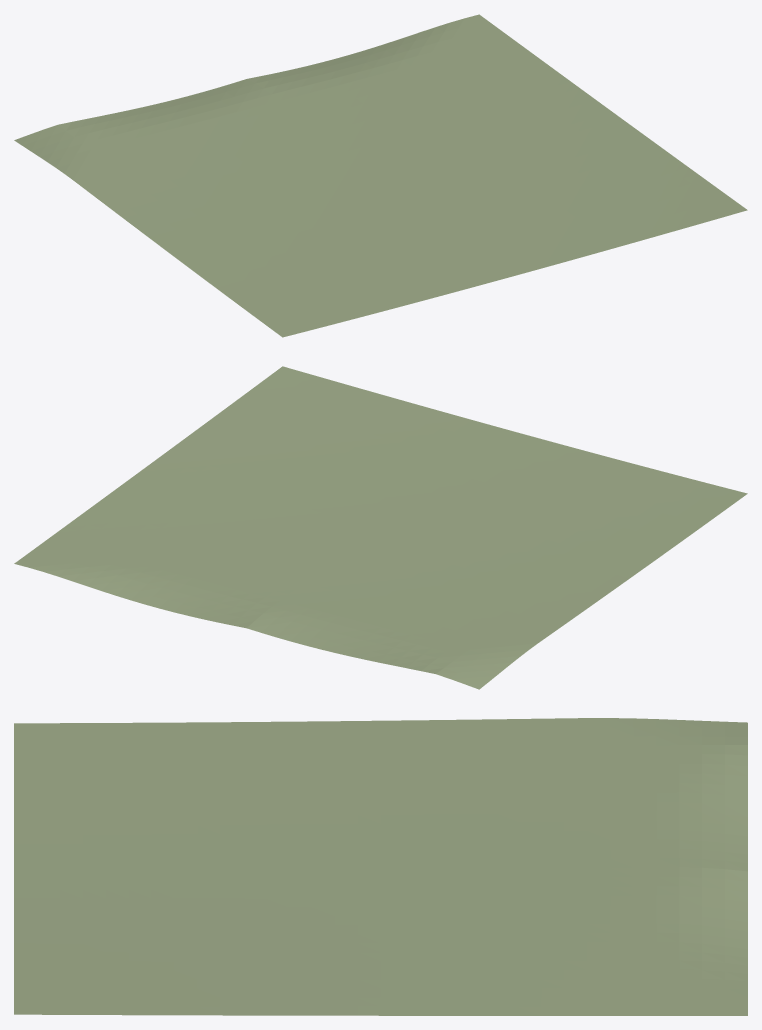
File: gardens-7-4.glb
3 renders of one model, top to bottom at view 1: azimuth 30°, elevation 25°; view 2: azimuth 150°, elevation 25°; view 3: azimuth 270°, elevation 25°, orthographic. The views are drawn at different scales.
Parts seen in each view (by area): view 1: gardens-7-4; view 2: gardens-7-4; view 3: gardens-7-4.
Part boxes in pixels (x1,y1,x2,y2): gardens-7-4: [14, 14, 747, 337]; gardens-7-4: [14, 366, 747, 689]; gardens-7-4: [14, 718, 747, 1015].
Bounding box in the file's own units: 256 × 7.24 × 256.
